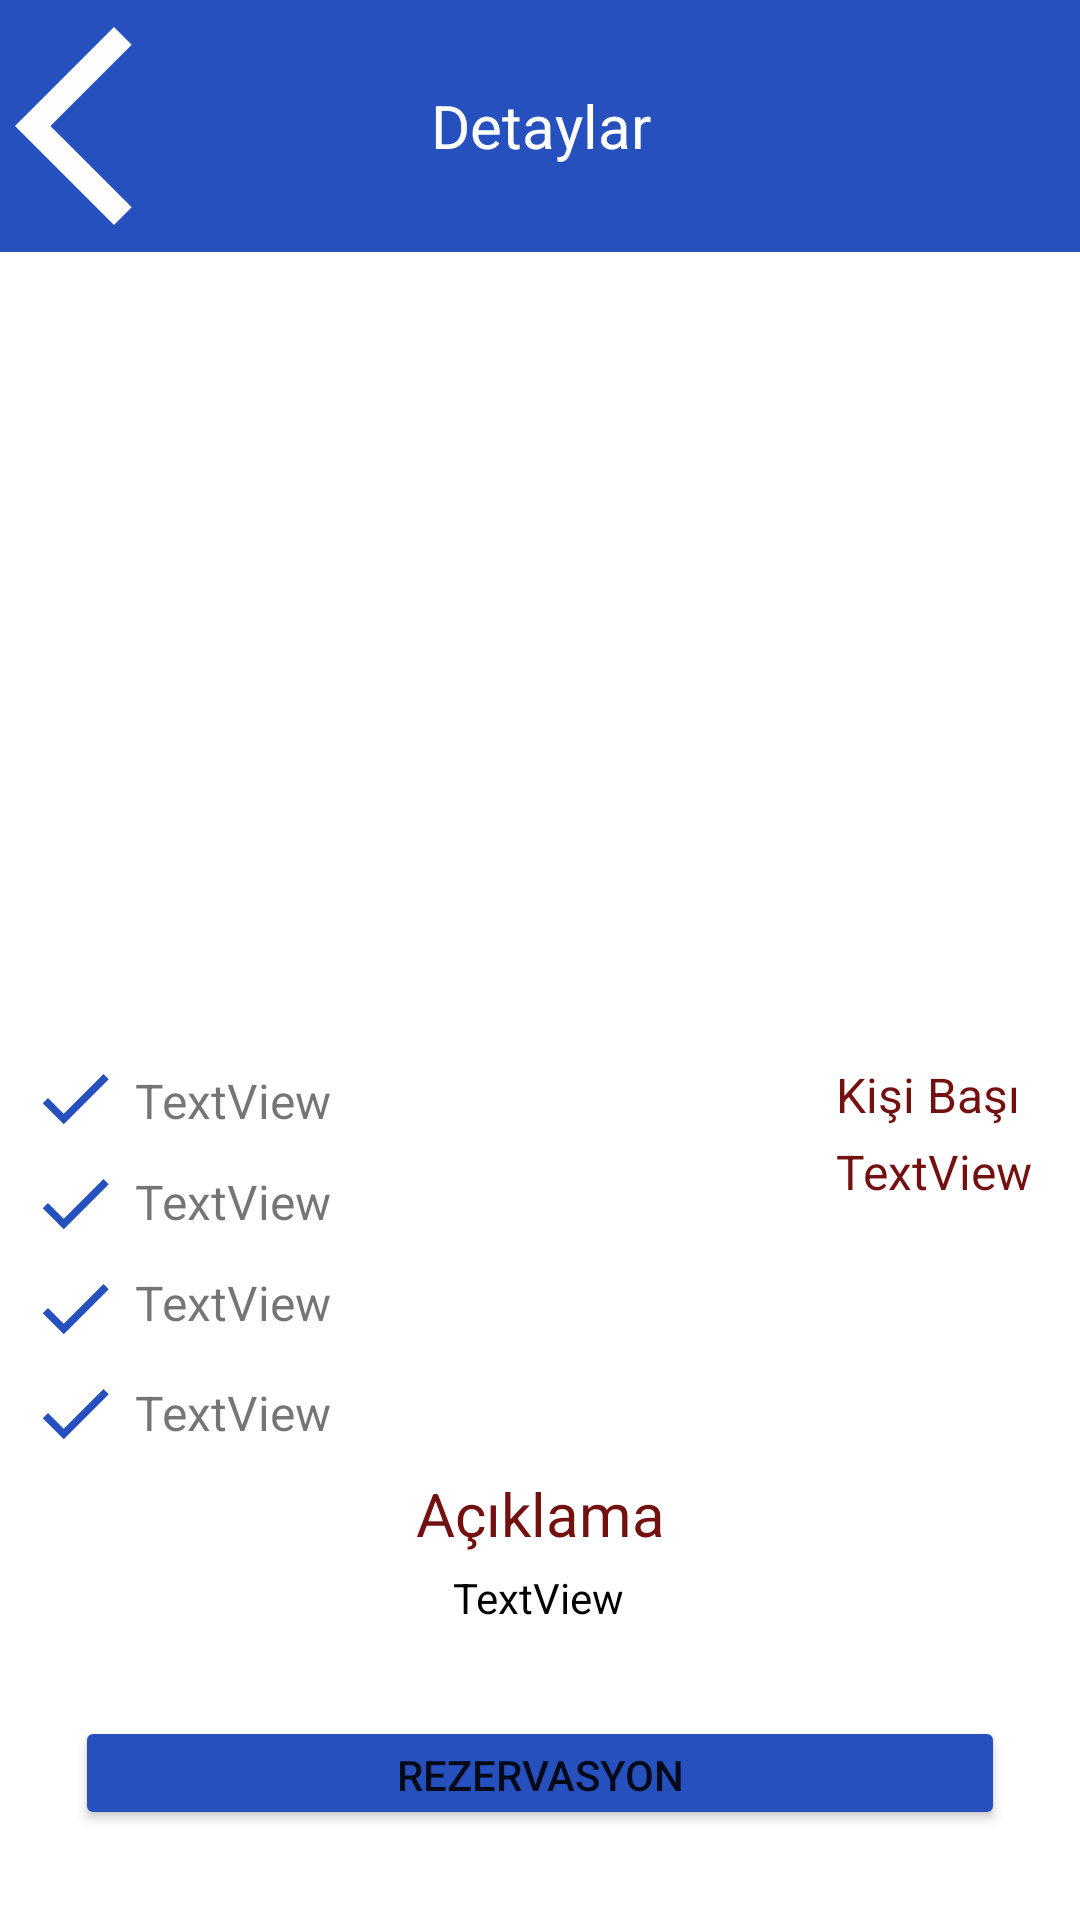

Icon click points for this 1080 x 1920 phone screenshot, format point (x, y):
arrow back: point (73, 126)
done: point (76, 1099), point (76, 1204), point (76, 1309), point (76, 1414)
